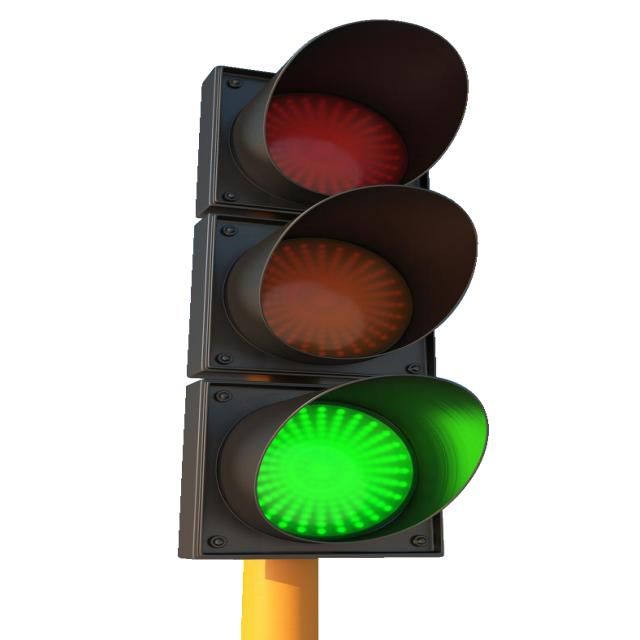green: (200, 350, 472, 549)
